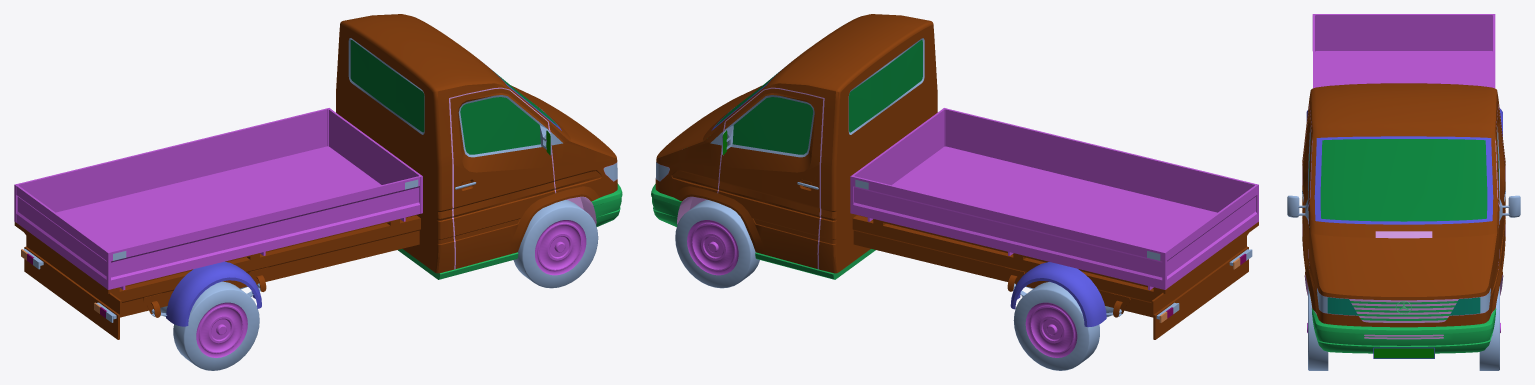
The model's file is centered_car1.obj.
The picture shows the model from 3 angles, left to right: view 1: azimuth 30°, elevation 25°; view 2: azimuth 150°, elevation 25°; view 3: azimuth 270°, elevation 25°; orthographic projection. The views are drawn at different scales.
Visible parts, largest first — view 1: WHEEL_ALUM, WHITE_BODY, BLACK_MATT, CAR_GLASS, BLACK_PLAS, GREY_DARK, BLACK_BLAC; view 2: WHEEL_ALUM, WHITE_BODY, BLACK_MATT, CAR_GLASS, BLACK_PLAS, GREY_DARK, BLACK_BLAC; view 3: WHITE_BODY, CAR_GLASS, WHEEL_ALUM, GREY_DARK, BLACK_BLAC, BLACK_MATT, BLACK_PLAS, LIGHT_GLAS, Object01, LIGHT_ORAN.
Boxes of the visible parts, x1=… form: WHEEL_ALUM: x1=14, y1=108, x2=586, y2=357; WHITE_BODY: x1=14, y1=14, x2=617, y2=339; BLACK_MATT: x1=23, y1=38, x2=598, y2=370; CAR_GLASS: x1=350, y1=40, x2=558, y2=154; BLACK_PLAS: x1=166, y1=68, x2=561, y2=326; GREY_DARK: x1=398, y1=183, x2=622, y2=279; BLACK_BLAC: x1=449, y1=87, x2=616, y2=269; WHEEL_ALUM: x1=687, y1=108, x2=1258, y2=357; WHITE_BODY: x1=655, y1=14, x2=1258, y2=339; BLACK_MATT: x1=675, y1=38, x2=1249, y2=370; CAR_GLASS: x1=715, y1=40, x2=922, y2=154; BLACK_PLAS: x1=711, y1=61, x2=1106, y2=327; GREY_DARK: x1=651, y1=184, x2=875, y2=279; BLACK_BLAC: x1=656, y1=87, x2=824, y2=269; WHITE_BODY: x1=1302, y1=83, x2=1505, y2=327; CAR_GLASS: x1=1309, y1=139, x2=1498, y2=221; WHEEL_ALUM: x1=1307, y1=14, x2=1500, y2=332; GREY_DARK: x1=1312, y1=301, x2=1496, y2=353; BLACK_BLAC: x1=1302, y1=104, x2=1505, y2=339; BLACK_MATT: x1=1287, y1=127, x2=1520, y2=370; BLACK_PLAS: x1=1306, y1=108, x2=1502, y2=358; LIGHT_GLAS: x1=1327, y1=297, x2=1480, y2=315; Object01: x1=1374, y1=348, x2=1434, y2=358; LIGHT_ORAN: x1=1317, y1=288, x2=1490, y2=313.
Size of the model in its own units: 141 by 58.89 by 55.26.
